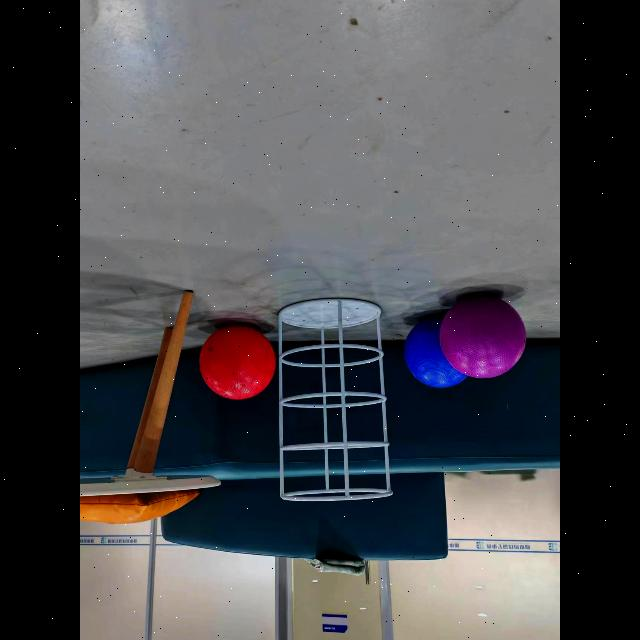B: (404, 318, 467, 388)
P: (439, 296, 526, 378)
R: (200, 325, 276, 400)
S: (278, 299, 392, 501)
